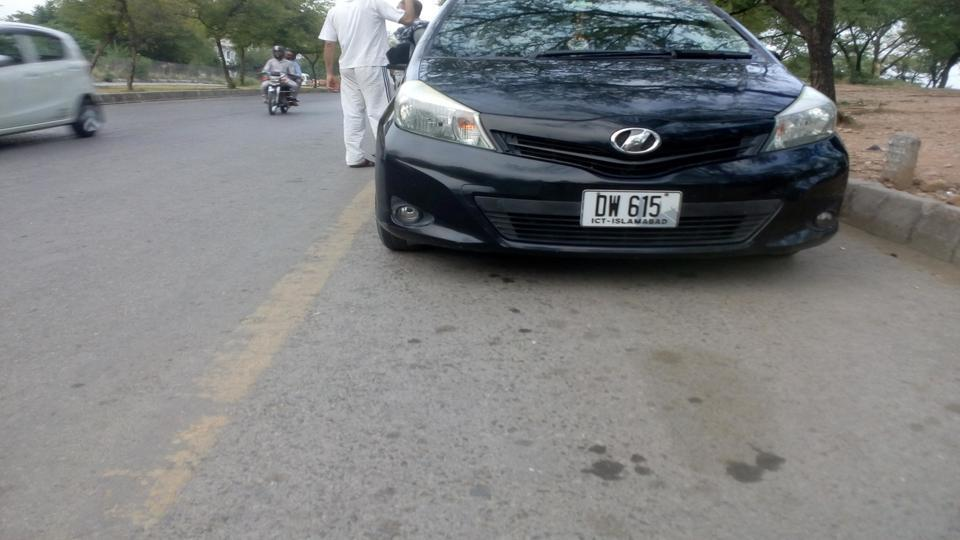NumberPlate: (577, 187, 685, 232)
